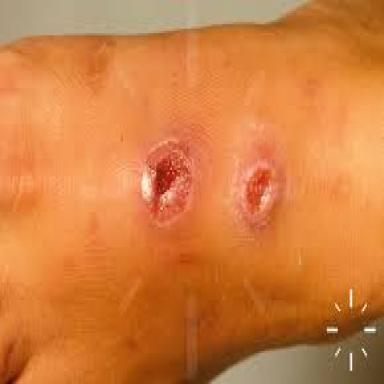Leishmanios: (141, 140, 194, 223), (234, 156, 283, 230)
